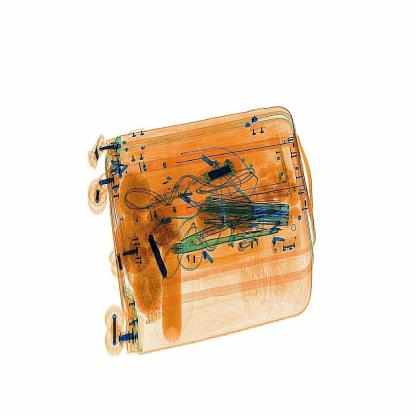knife: (145, 232, 177, 283)
